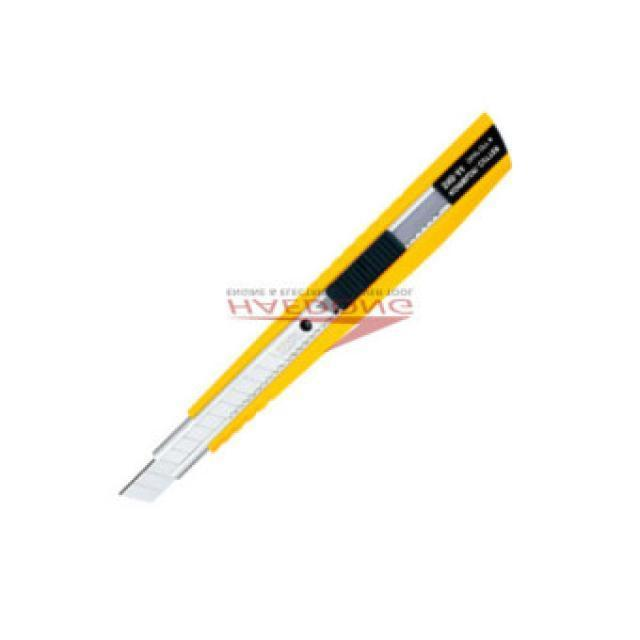cutter: (110, 104, 522, 522)
